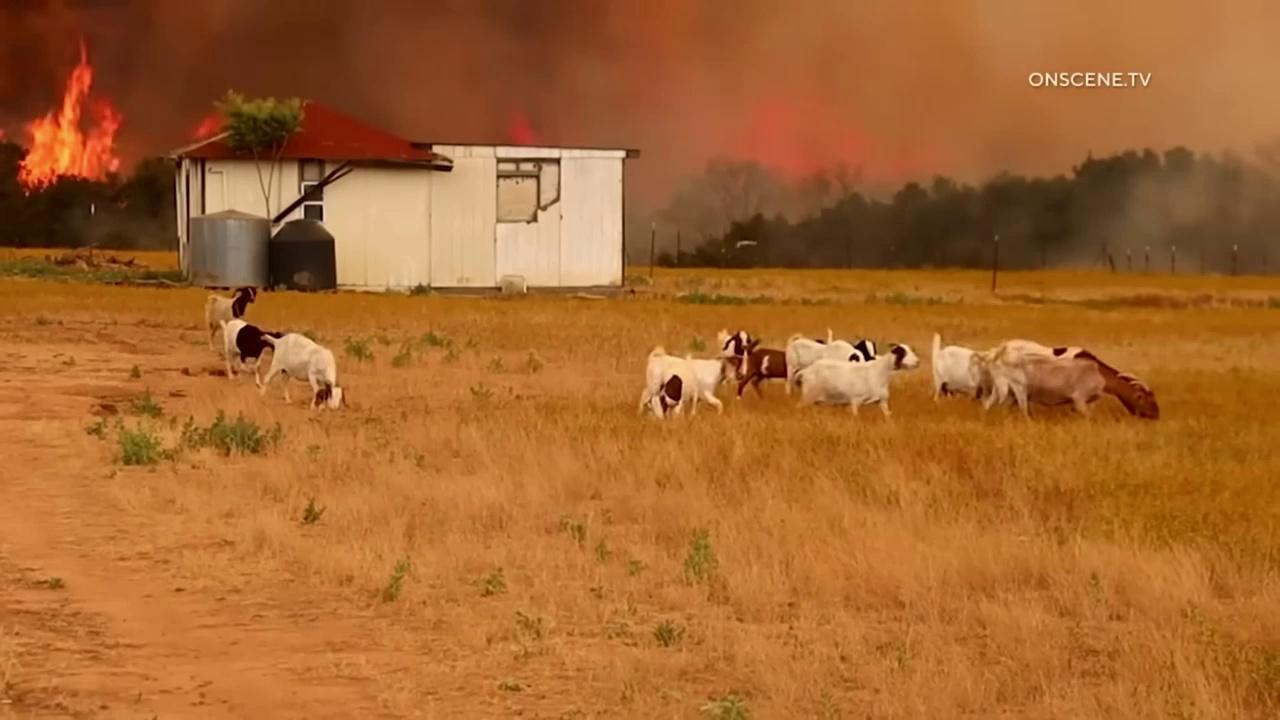fire: (12, 33, 124, 199), (730, 85, 868, 184), (509, 107, 539, 144), (190, 112, 223, 142), (0, 126, 5, 143)
smoke: (0, 0, 1280, 274)
